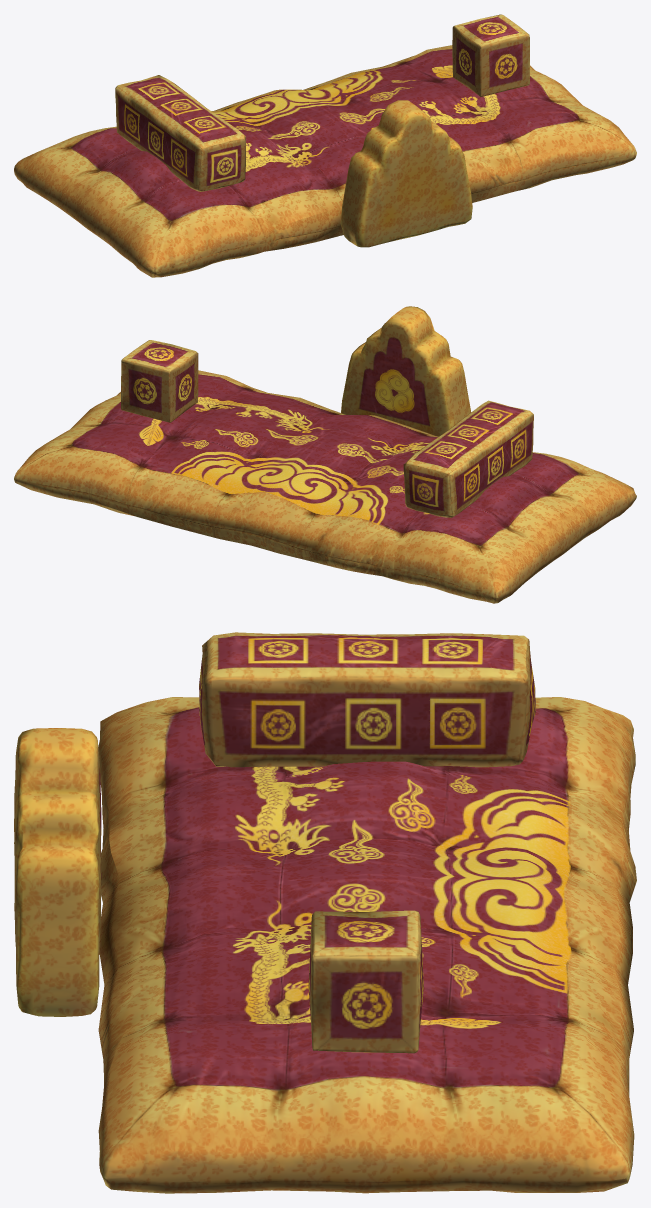
The model's file is TraditionalKoreanHouse_Bed.fbx.
3 views of the same model, one above another, from view 1: azimuth 30°, elevation 25°; view 2: azimuth 150°, elevation 25°; view 3: azimuth 270°, elevation 25° (orthographic). The views are drawn at different scales.
Parts seen in each view (by area): view 1: TraditionalKoreanHouse_Bed; view 2: TraditionalKoreanHouse_Bed; view 3: TraditionalKoreanHouse_Bed.
Boxes of the visible parts, x1,y1,x2,y2 form: TraditionalKoreanHouse_Bed: (14,14,636,277); TraditionalKoreanHouse_Bed: (14,306,636,603); TraditionalKoreanHouse_Bed: (14,632,636,1193).
Size of the model in its own units: 205 by 52.34 by 119.
